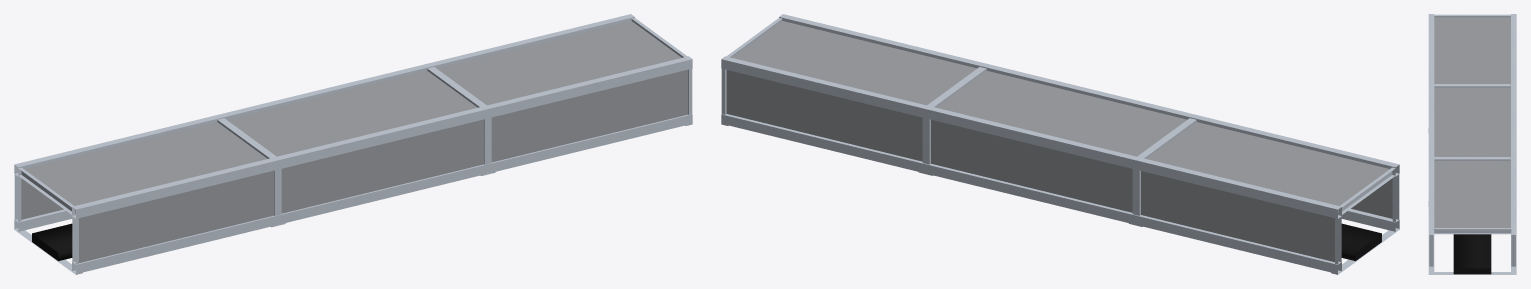
File: SM05_Industrial_CableTray_01_Mid.fbx
3 views of the same model, side by side, from view 1: azimuth 30°, elevation 25°; view 2: azimuth 150°, elevation 25°; view 3: azimuth 270°, elevation 25° (orthographic). The views are drawn at different scales.
Parts seen in each view (by area): view 1: SM05_Industrial_CableTray_01_Mid_01; view 2: SM05_Industrial_CableTray_01_Mid_01; view 3: SM05_Industrial_CableTray_01_Mid_01.
Boxes of the visible parts, x1=… form: SM05_Industrial_CableTray_01_Mid_01: x1=14, y1=14, x2=692, y2=274; SM05_Industrial_CableTray_01_Mid_01: x1=721, y1=14, x2=1399, y2=274; SM05_Industrial_CableTray_01_Mid_01: x1=1428, y1=14, x2=1516, y2=274.
Bounding box in the file's own units: 3.75 × 0.3796 × 0.6514.
